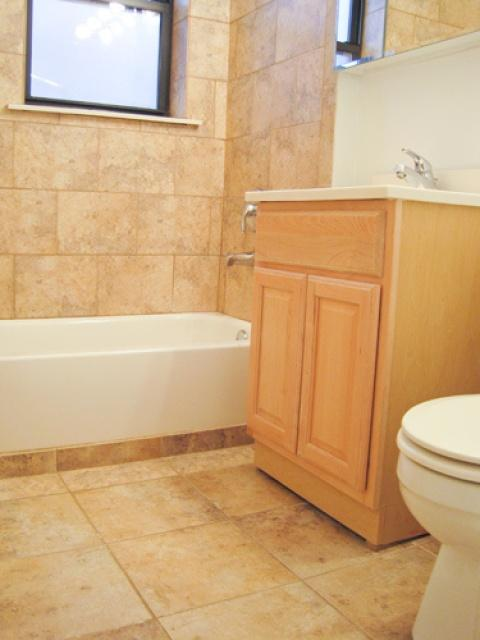Lemari: (246, 198, 395, 512)
